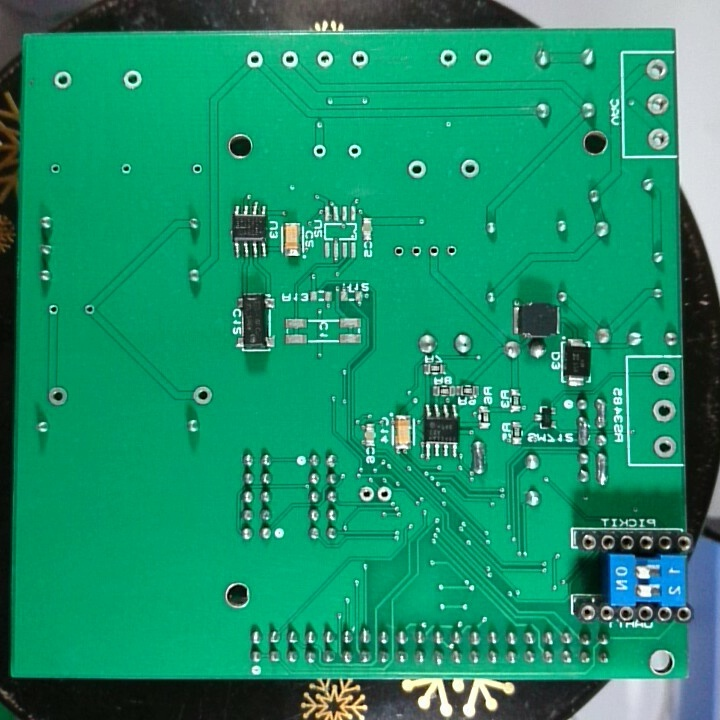F: (645, 125, 673, 153), (651, 431, 678, 460), (643, 90, 671, 117), (650, 362, 678, 388), (651, 397, 677, 425), (243, 47, 268, 75), (190, 381, 214, 410), (44, 383, 70, 409), (644, 56, 669, 83), (119, 68, 145, 92), (405, 157, 429, 182), (437, 46, 460, 71), (348, 47, 371, 72), (459, 156, 482, 180), (279, 47, 300, 72), (52, 68, 73, 92), (473, 46, 495, 68), (314, 48, 334, 71), (357, 483, 377, 506), (388, 241, 408, 262), (345, 141, 363, 162), (376, 483, 394, 504), (425, 240, 442, 261), (406, 242, 425, 260), (311, 143, 329, 161), (117, 160, 134, 179), (443, 241, 460, 259), (80, 300, 97, 318), (189, 160, 205, 179), (44, 302, 62, 318), (47, 160, 62, 178)
P: (468, 438, 488, 476), (592, 395, 610, 432), (593, 449, 610, 487), (574, 413, 593, 446)
